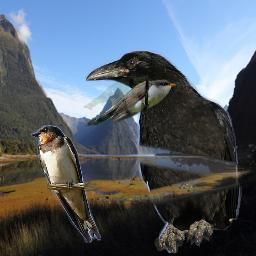Crow: (84, 49, 242, 253)
Cuckoo: (84, 78, 176, 126)
Swallow: (30, 125, 101, 243)
